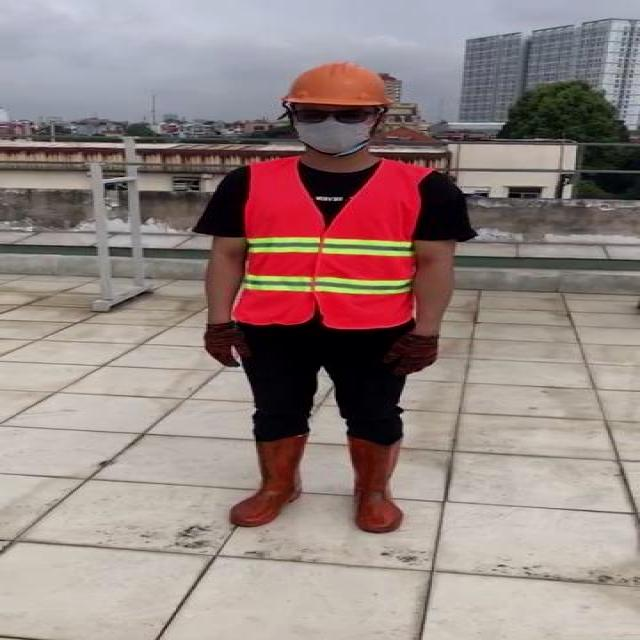boots: (230, 430, 308, 527), (346, 432, 411, 534)
face_mask: (288, 101, 379, 152)
glasses: (286, 105, 377, 128)
hand_glove: (203, 321, 256, 368), (380, 335, 441, 375)
head_helmet: (177, 54, 479, 544), (279, 61, 398, 108)
vest: (237, 161, 430, 326)
